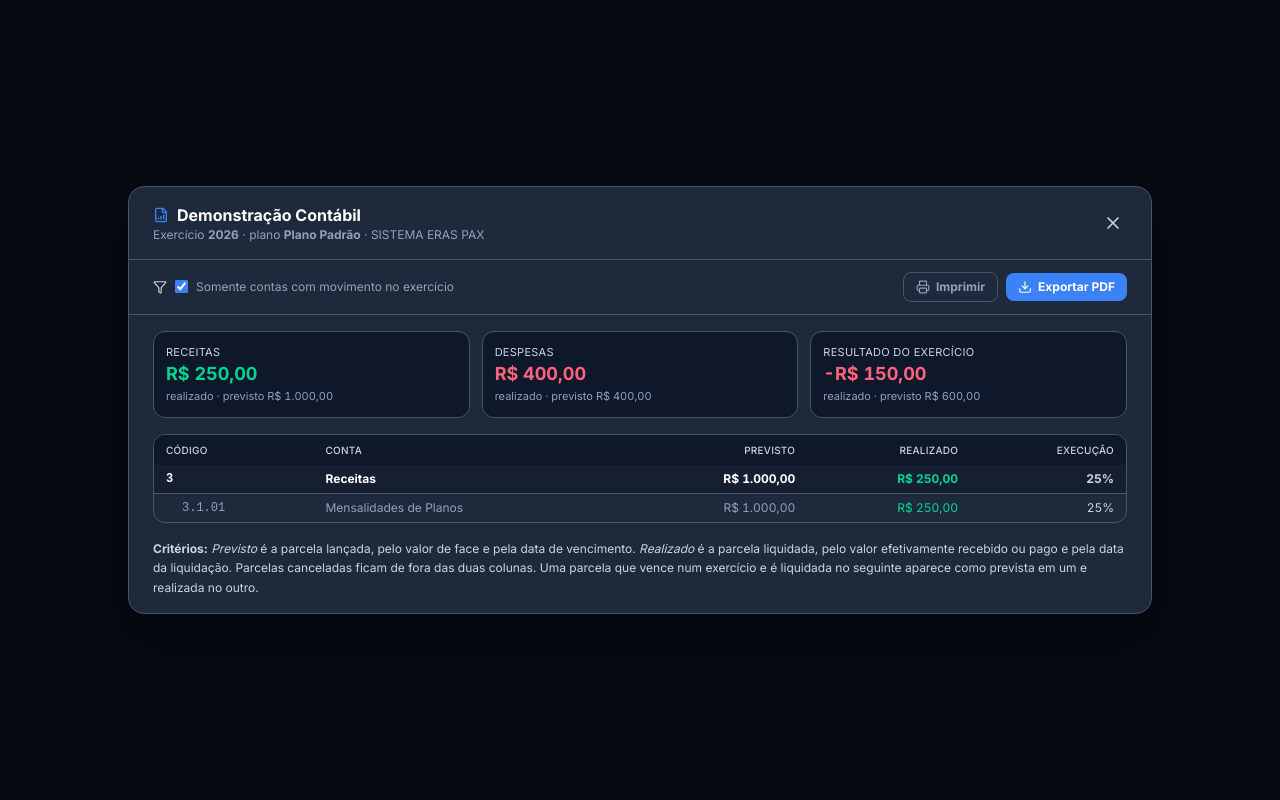
Test: DemonstracaoContabilModal › começa filtrando as contas zeradas, e o filtro traz o plano inteiro de volta
Expected: the text "Serviços Extras" is not shown
Click the checkbox labelled "Somente contas com movimento no exercício" at (182, 287), box [175,280,188,293]
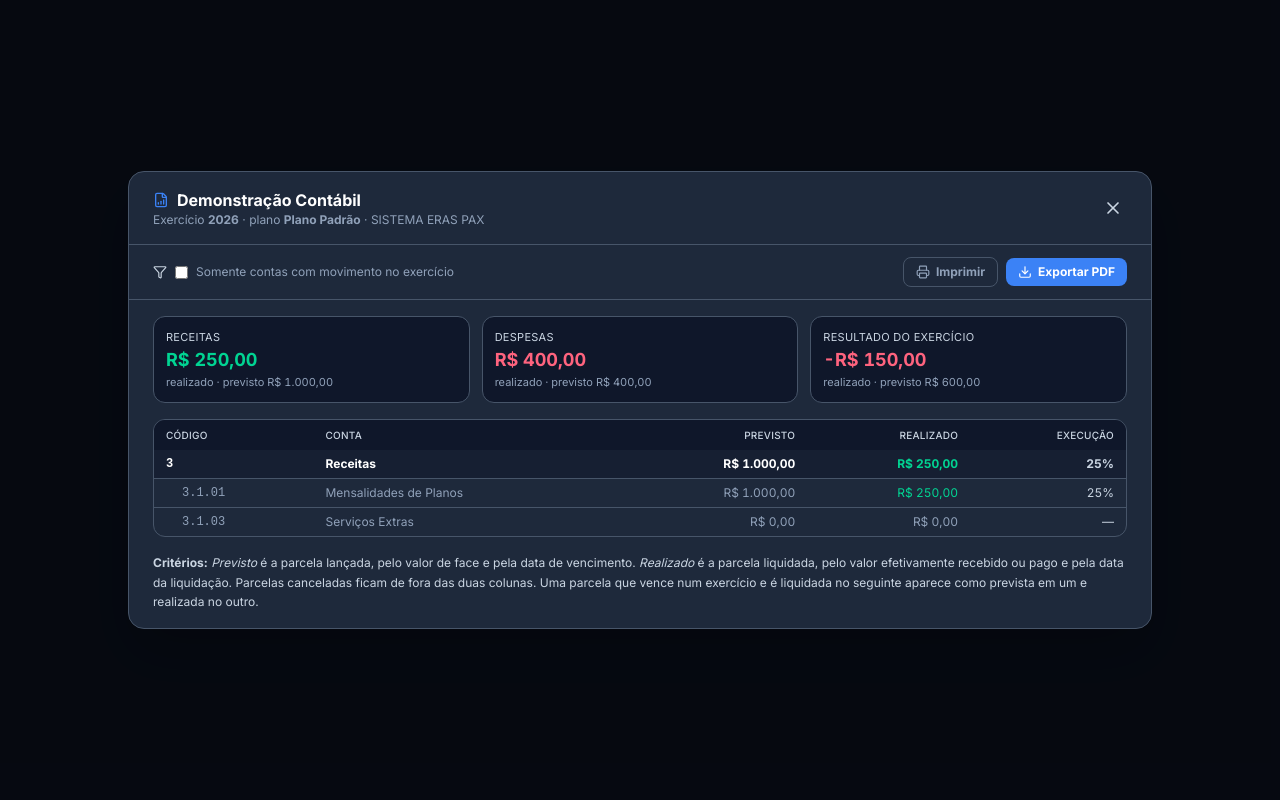
Expected: the text "Serviços Extras" is shown, [314,508,623,536]
